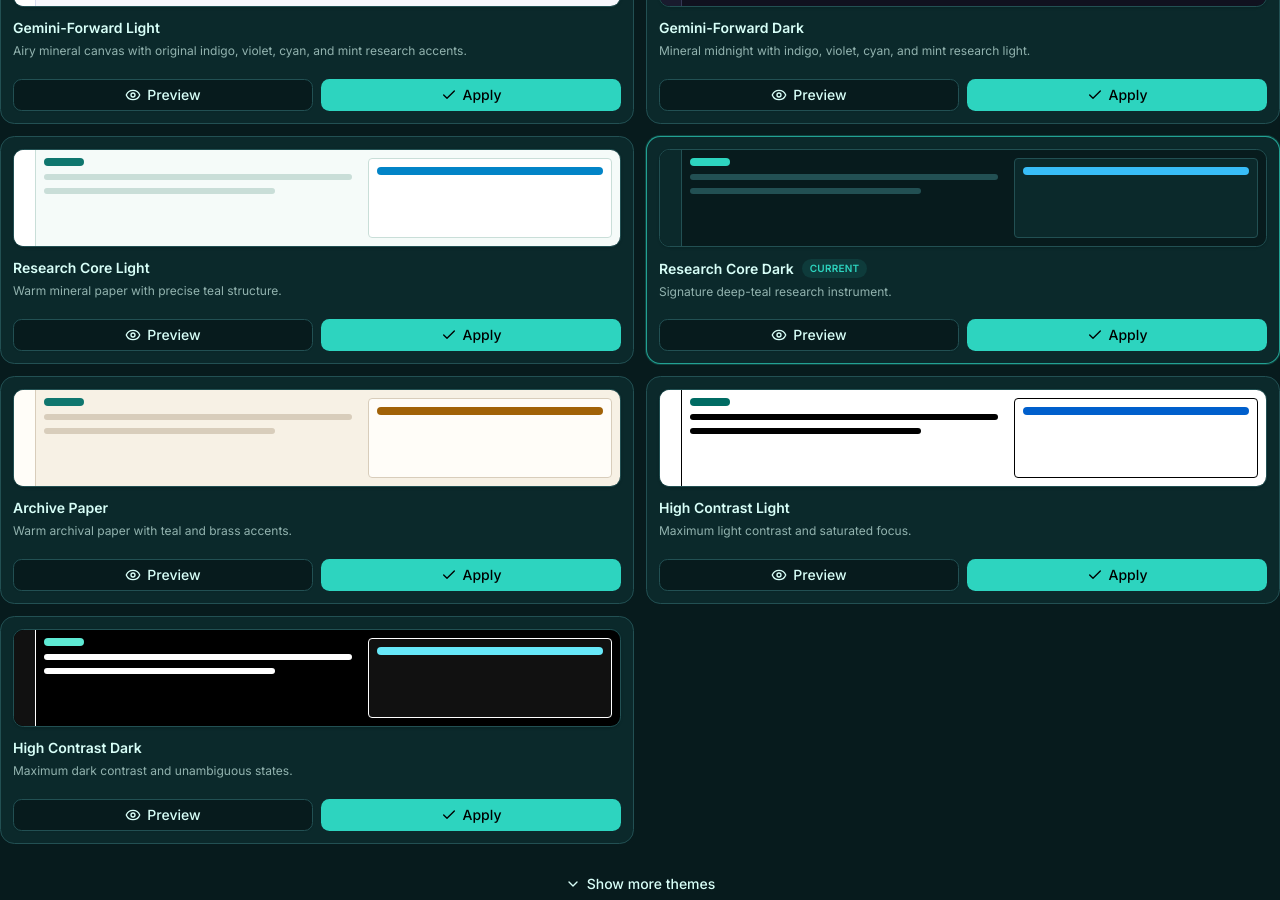
ThemeGallery › curates the initial gallery and discloses the remaining catalog on demand
(page scrolled)
Expected: the heading "Archive Paper" is shown, [13,499,108,516]
Click the button "Show more themes": (640, 884) [555,868,725,899]
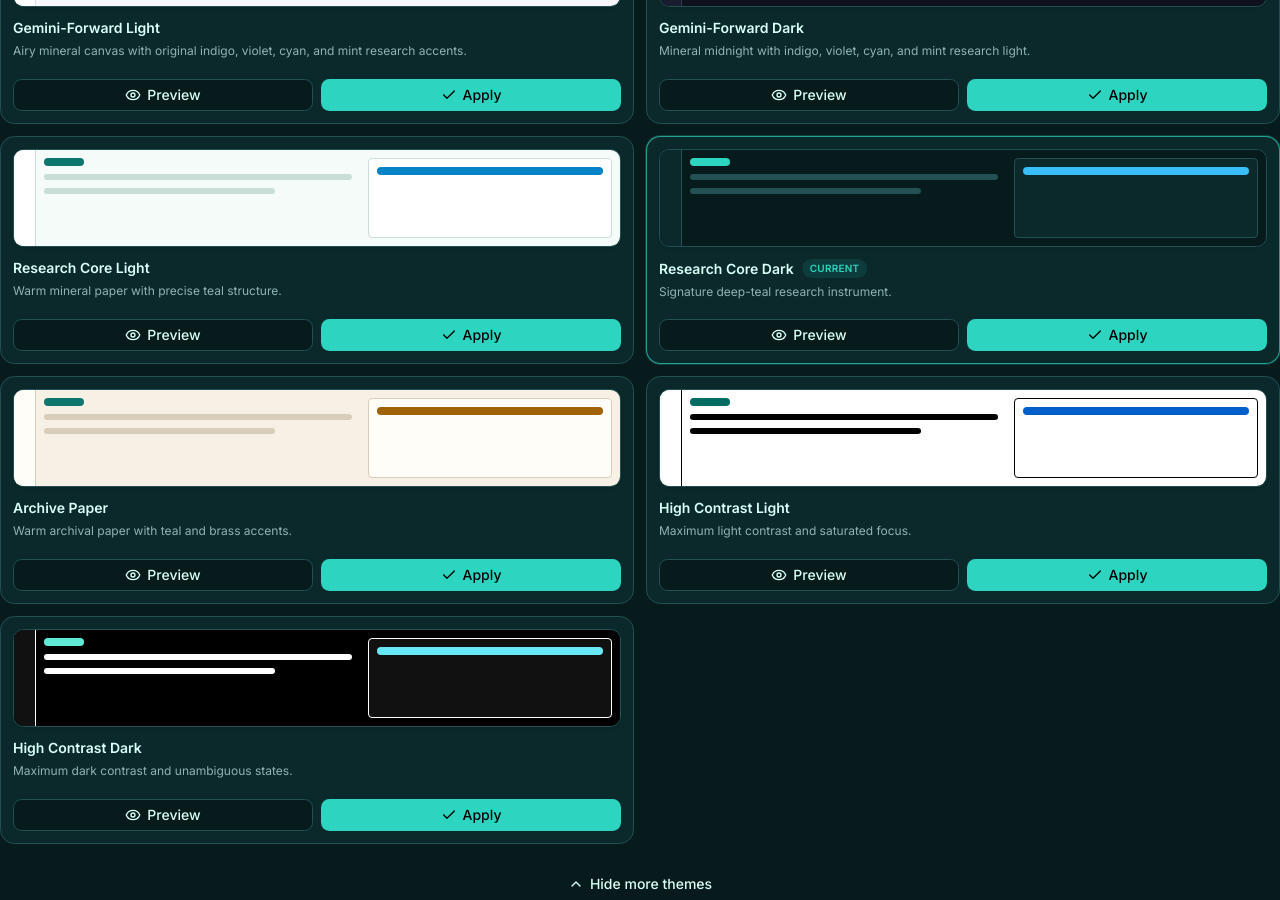
Result: the button named "Show more themes" is expanded at [558,868,722,899]
